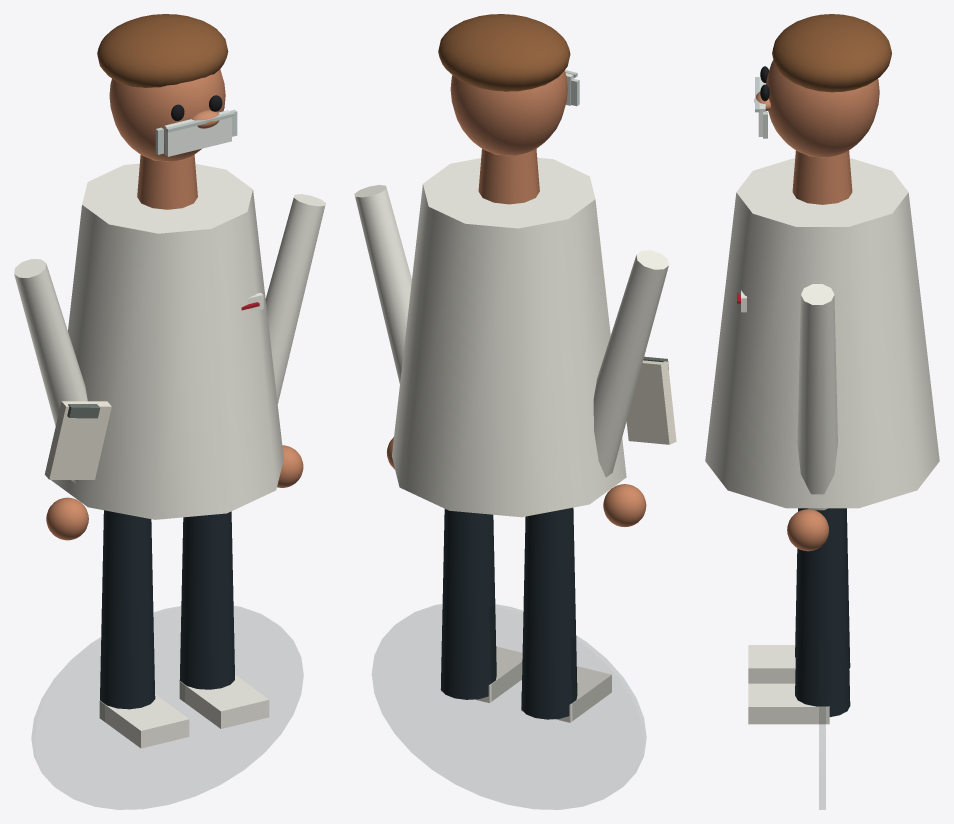
File: staff_02_sgk.glb
3 renders of one model, left to right at view 1: azimuth 30°, elevation 25°; view 2: azimuth 150°, elevation 25°; view 3: azimuth 270°, elevation 25°, orthographic. The views are drawn at different scales.
Parts seen in each view (by area): view 1: torso, contact_shadow, leg_-0.095, leg_0.095, hair_cap, arm_0.255, arm_-0.255, head, clipboard, shoe_0.095, shoe_-0.095, neck (+3 smaller); view 2: torso, contact_shadow, leg_-0.095, leg_0.095, hair_cap, arm_-0.255, head, arm_0.255, clipboard, neck, hand_-0.255, shoe_-0.095 (+1 smaller); view 3: torso, leg_0.095, arm_0.255, hair_cap, head, neck, shoe_0.095, shoe_-0.095, hand_0.255, contact_shadow.
Boxes of the visible parts, left/top/right/bottom form: torso: left=51, top=163, right=283, bottom=519; contact_shadow: left=32, top=606, right=303, bottom=809; leg_-0.095: left=100, top=510, right=155, bottom=709; leg_0.095: left=179, top=511, right=234, bottom=689; hair_cap: left=97, top=14, right=228, bottom=87; arm_0.255: left=265, top=194, right=325, bottom=403; arm_-0.255: left=14, top=259, right=87, bottom=483; head: left=109, top=69, right=225, bottom=161; clipboard: left=44, top=401, right=111, bottom=479; shoe_0.095: left=179, top=675, right=269, bottom=728; shoe_-0.095: left=99, top=694, right=189, bottom=748; neck: left=137, top=154, right=197, bottom=209; torso: left=392, top=157, right=626, bottom=517; contact_shadow: left=372, top=604, right=645, bottom=809; leg_-0.095: left=521, top=507, right=577, bottom=719; leg_0.095: left=440, top=509, right=496, bottom=699; hair_cap: left=438, top=14, right=570, bottom=91; arm_-0.255: left=593, top=250, right=668, bottom=477; head: left=450, top=70, right=567, bottom=155; arm_0.255: left=354, top=185, right=411, bottom=383; clipboard: left=626, top=360, right=676, bottom=444; neck: left=478, top=148, right=539, bottom=204; hand_-0.255: left=603, top=484, right=646, bottom=526; shoe_-0.095: left=521, top=666, right=611, bottom=722; torso: left=705, top=158, right=939, bottom=508; leg_0.095: left=795, top=508, right=850, bottom=716; arm_0.255: left=797, top=284, right=837, bottom=510; hair_cap: left=772, top=14, right=891, bottom=92; head: left=766, top=60, right=879, bottom=157; neck: left=792, top=150, right=852, bottom=204; shoe_0.095: left=748, top=683, right=829, bottom=724; shoe_-0.095: left=748, top=645, right=795, bottom=683; hand_0.255: left=787, top=509, right=829, bottom=551; contact_shadow: left=819, top=641, right=825, bottom=809.
Size of the model in its own units: 0.7506 by 1.81 by 0.5047.
